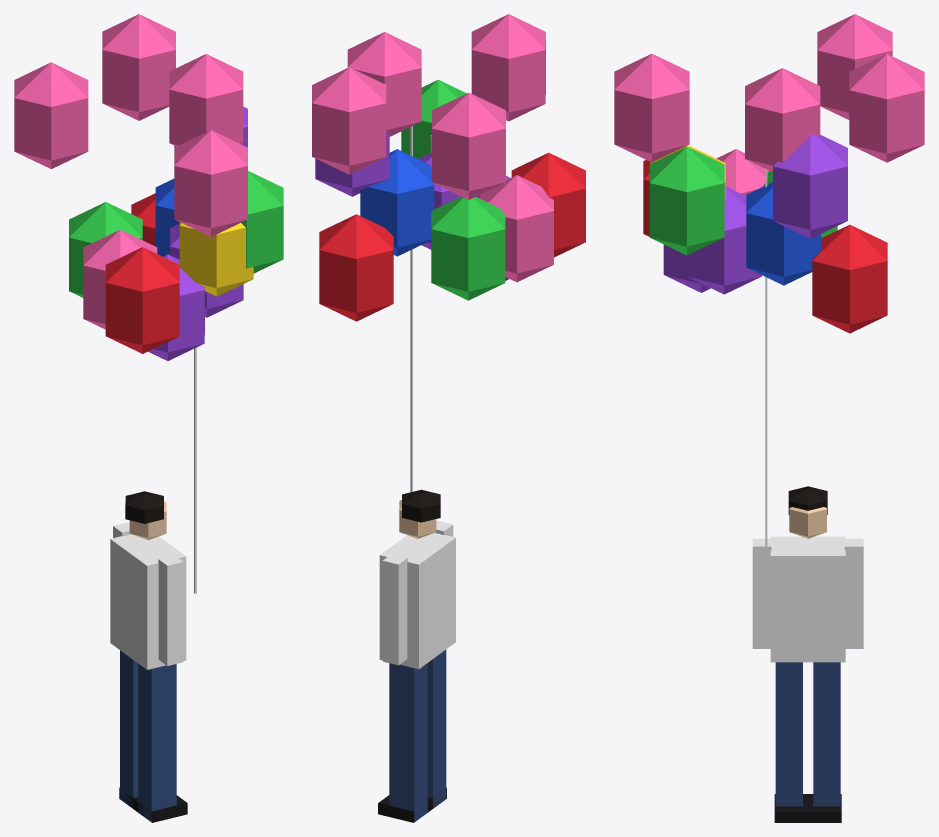
The model's file is vendedor_globos.obj.
3 views of the same model, side by side, from view 1: azimuth 30°, elevation 25°; view 2: azimuth 150°, elevation 25°; view 3: azimuth 270°, elevation 25° (orthographic).
Parts seen in each view (by area): view 1: vendedor_globos; view 2: vendedor_globos; view 3: vendedor_globos.
Part boxes in pixels (bbox=[...]): vendedor_globos: bbox=[14, 14, 283, 822]; vendedor_globos: bbox=[312, 14, 585, 822]; vendedor_globos: bbox=[614, 14, 924, 822].
Bounding box in the file's own units: 1.19 × 4.08 × 1.49.
